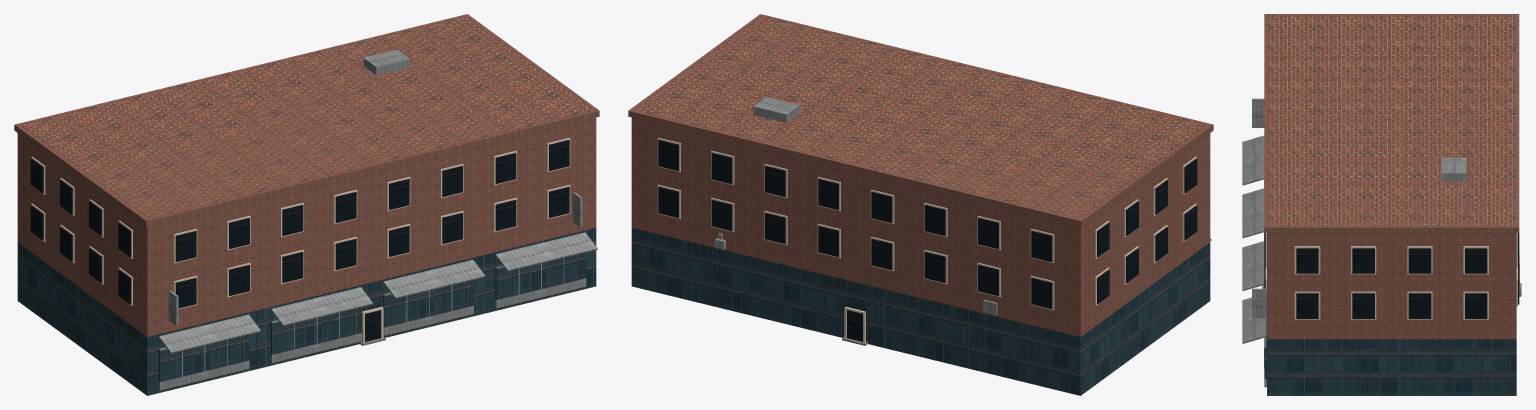
The model's file is woodward-retail-block_lod0.gltf.
3 views of the same model, side by side, from view 1: azimuth 30°, elevation 25°; view 2: azimuth 150°, elevation 25°; view 3: azimuth 270°, elevation 25° (orthographic). The views are drawn at different scales.
Parts seen in each view (by area): view 1: woodward-retail-block_upper, woodward-retail-block__parapet, woodward-retail-block_base, woodward-retail-block_fen_07-glass-curtain-blue_3_t, woodward-retail-block_fen_07-glass-curtain-blue_1, woodward-retail-block_fen_04-limestone_2, woodward-retail-block_fen_14-steel-panel_0, woodward-retail-block__awning_c, woodward-retail-block__awning_d, woodward-retail-block__awning_a, woodward-retail-block__awning_b, woodward-retail-block__hvac; view 2: woodward-retail-block_upper, woodward-retail-block_base, woodward-retail-block_fen_07-glass-curtain-blue_3_t, woodward-retail-block__parapet, woodward-retail-block_fen_04-limestone_2, woodward-retail-block__hvac; view 3: woodward-retail-block_upper, woodward-retail-block__parapet, woodward-retail-block_base, woodward-retail-block_fen_07-glass-curtain-blue_3_t, woodward-retail-block_fen_04-limestone_2, woodward-retail-block__awning_a, woodward-retail-block__awning_b, woodward-retail-block__awning_c, woodward-retail-block__awning_d, woodward-retail-block__hvac, woodward-retail-block__blade_b, woodward-retail-block__blade_a.
Part boxes in pixels (x1=…): woodward-retail-block_upper: x1=17, y1=15, x2=596, y2=337; woodward-retail-block__parapet: x1=14, y1=14, x2=599, y2=226; woodward-retail-block_base: x1=17, y1=228, x2=596, y2=395; woodward-retail-block_fen_07-glass-curtain-blue_3_t: x1=30, y1=140, x2=569, y2=341; woodward-retail-block_fen_07-glass-curtain-blue_1: x1=158, y1=253, x2=586, y2=382; woodward-retail-block_fen_04-limestone_2: x1=31, y1=137, x2=570, y2=342; woodward-retail-block_fen_14-steel-panel_0: x1=158, y1=258, x2=586, y2=390; woodward-retail-block__awning_c: x1=383, y1=259, x2=485, y2=299; woodward-retail-block__awning_d: x1=495, y1=232, x2=597, y2=271; woodward-retail-block__awning_a: x1=158, y1=314, x2=260, y2=353; woodward-retail-block__awning_b: x1=271, y1=287, x2=373, y2=326; woodward-retail-block__hvac: x1=363, y1=49, x2=409, y2=75; woodward-retail-block_upper: x1=631, y1=15, x2=1210, y2=337; woodward-retail-block_base: x1=631, y1=228, x2=1210, y2=395; woodward-retail-block_fen_07-glass-curtain-blue_3_t: x1=658, y1=140, x2=1197, y2=341; woodward-retail-block__parapet: x1=628, y1=14, x2=1213, y2=226; woodward-retail-block_fen_04-limestone_2: x1=657, y1=137, x2=1196, y2=342; woodward-retail-block__hvac: x1=753, y1=97, x2=799, y2=122; woodward-retail-block_upper: x1=1267, y1=15, x2=1516, y2=339; woodward-retail-block__parapet: x1=1264, y1=14, x2=1519, y2=232; woodward-retail-block_base: x1=1267, y1=339, x2=1516, y2=395; woodward-retail-block_fen_07-glass-curtain-blue_3_t: x1=1264, y1=233, x2=1519, y2=318; woodward-retail-block_fen_04-limestone_2: x1=1263, y1=233, x2=1519, y2=319; woodward-retail-block__awning_a: x1=1242, y1=135, x2=1264, y2=185; woodward-retail-block__awning_b: x1=1242, y1=188, x2=1264, y2=238; woodward-retail-block__awning_c: x1=1242, y1=241, x2=1264, y2=290; woodward-retail-block__awning_d: x1=1242, y1=297, x2=1266, y2=343; woodward-retail-block__hvac: x1=1441, y1=157, x2=1466, y2=181; woodward-retail-block__blade_b: x1=1252, y1=288, x2=1266, y2=317; woodward-retail-block__blade_a: x1=1252, y1=98, x2=1264, y2=127.
Size of the model in its own units: 40.4 by 15.7 by 22.37.
